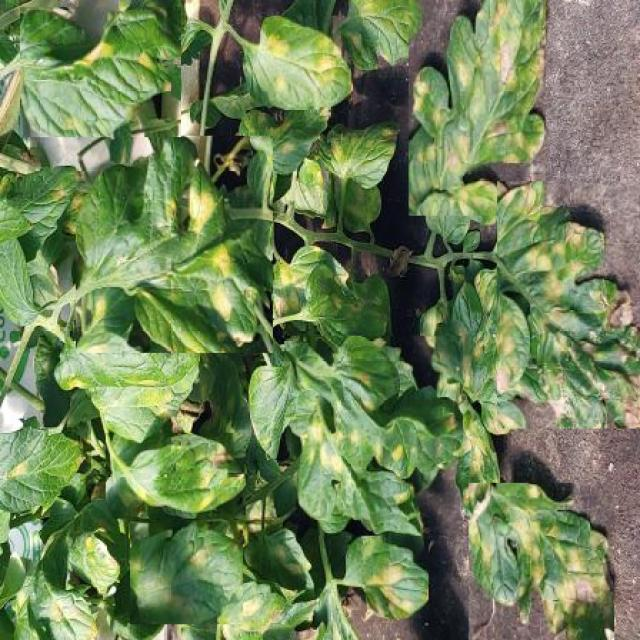Leaf Mold: (76, 136, 273, 353), (284, 336, 463, 536), (497, 181, 640, 429), (409, 0, 546, 216), (469, 483, 615, 640), (21, 7, 180, 137), (105, 433, 246, 518), (130, 520, 243, 624), (243, 16, 353, 111), (345, 536, 429, 620)
